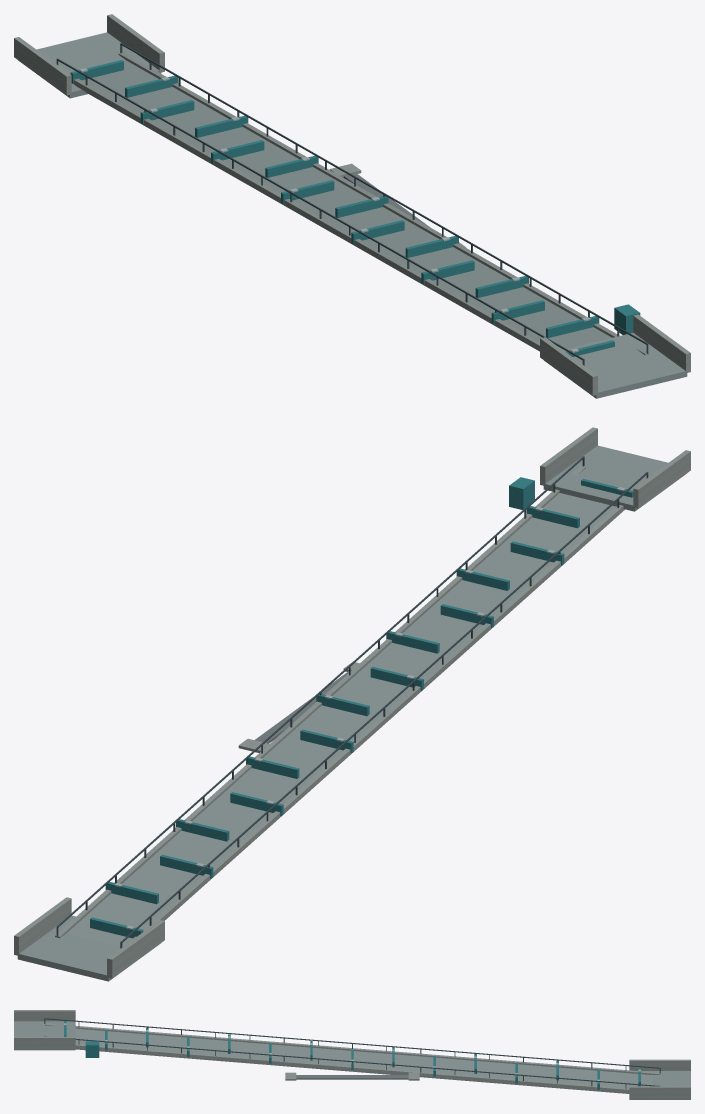
The model's file is FishPassage_Upgrade_LOD0.fbx.
3 views of the same model, one above another, from view 1: azimuth 30°, elevation 25°; view 2: azimuth 150°, elevation 25°; view 3: azimuth 270°, elevation 25° (orthographic). The views are drawn at different scales.
Visible parts, largest first — view 1: FishPassage_Upgrade_LOD0; view 2: FishPassage_Upgrade_LOD0; view 3: FishPassage_Upgrade_LOD0.
Part boxes in pixels (left/top/right/bottom): FishPassage_Upgrade_LOD0: left=14, top=14, right=690, bottom=398; FishPassage_Upgrade_LOD0: left=14, top=427, right=690, bottom=981; FishPassage_Upgrade_LOD0: left=14, top=1010, right=690, bottom=1099.
Size of the model in its own units: 1075 by 1030 by 9900.
Materials: 6 (1 with a texture image).
